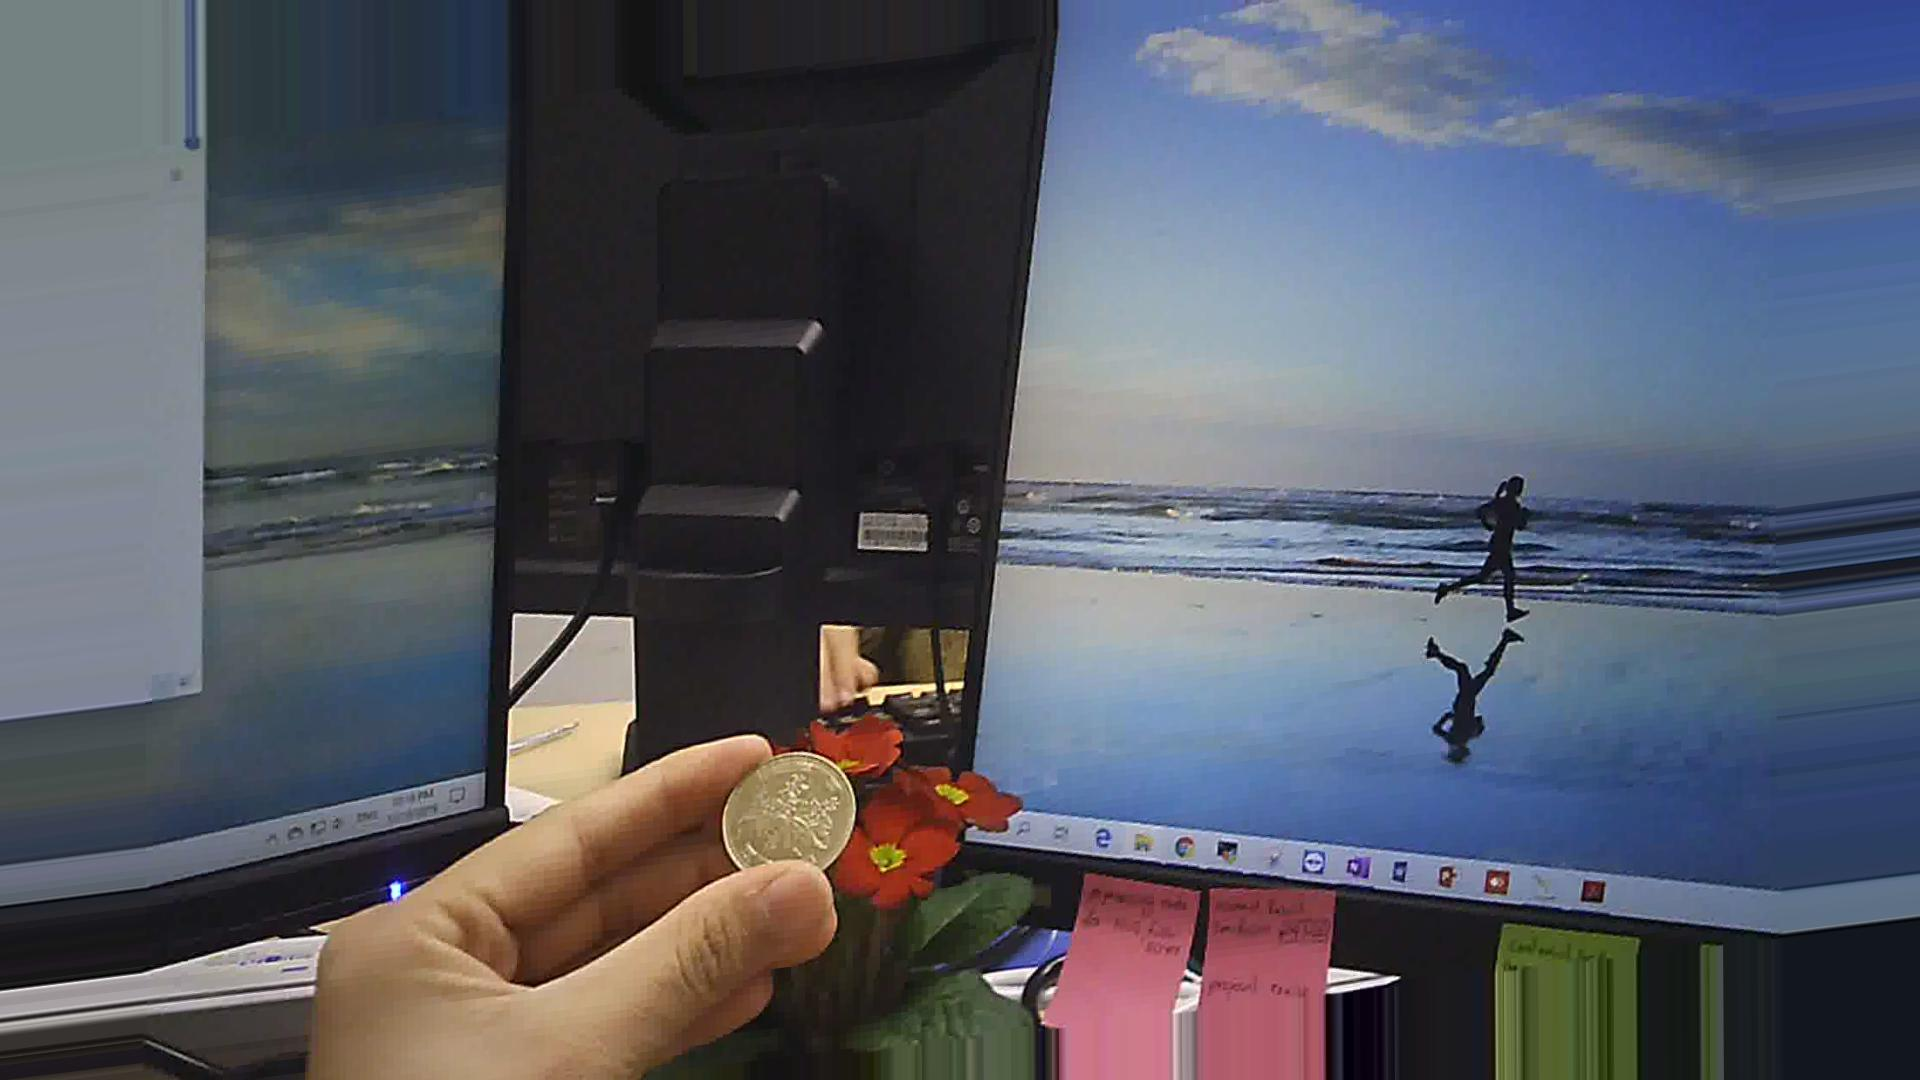500 Yen: (709, 752, 868, 882)
